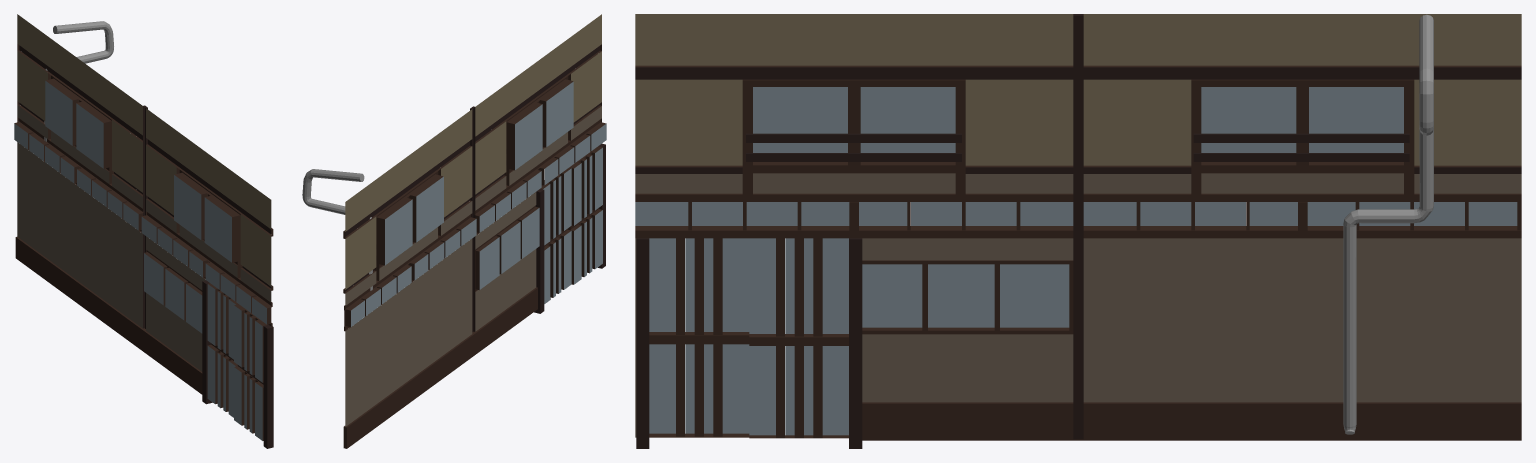
File: left_wall_3.glb
3 renders of one model, left to right at view 1: azimuth 30°, elevation 25°; view 2: azimuth 150°, elevation 25°; view 3: azimuth 270°, elevation 25°, orthographic. The views are drawn at different scales.
Parts seen in each view (by area): view 1: LeftWall3; view 2: LeftWall3; view 3: LeftWall3.
Boxes of the visible parts, left/top/right/bottom form: LeftWall3: left=14, top=14, right=273, bottom=448; LeftWall3: left=302, top=14, right=606, bottom=448; LeftWall3: left=635, top=14, right=1521, bottom=448.
Size of the model in its own units: 1.91 by 6.19 by 11.26.
